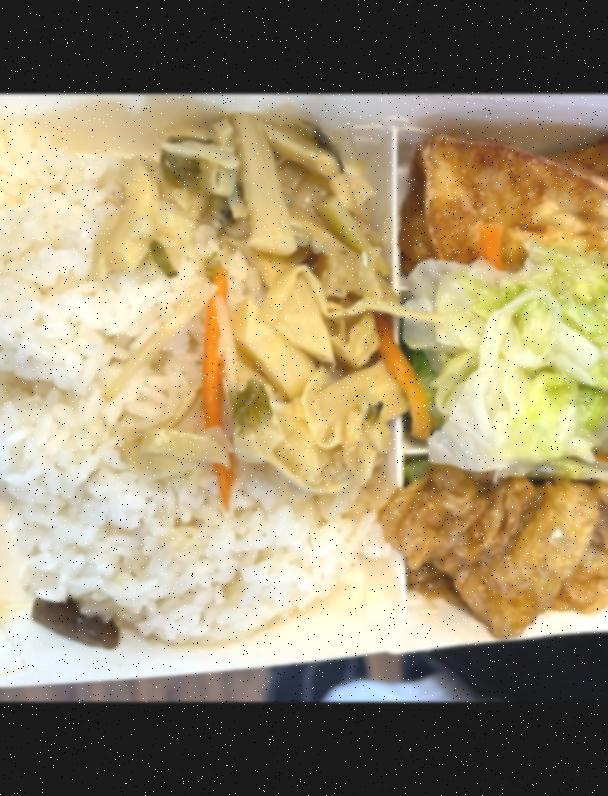box: (0, 96, 608, 702)
side dish: (114, 104, 408, 504), (403, 251, 608, 476), (383, 466, 608, 626), (403, 128, 608, 276)
white rice: (0, 136, 385, 641)
